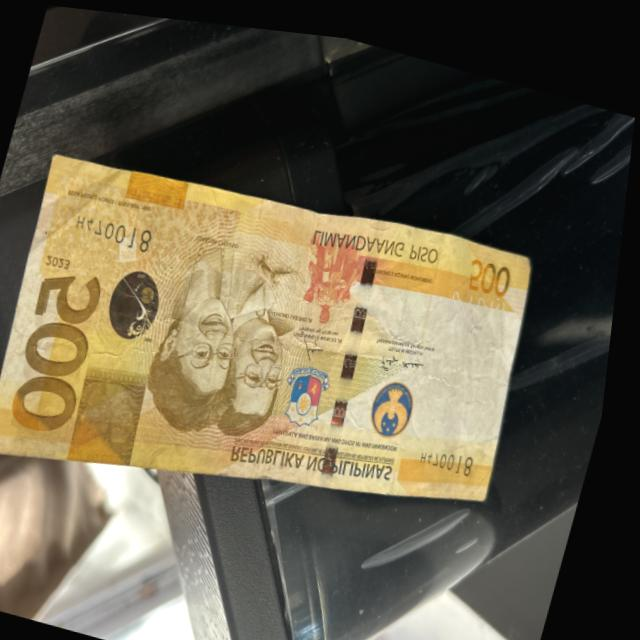concealed_value: (75, 355, 162, 465)
optically_variable_device: (105, 254, 176, 348)
